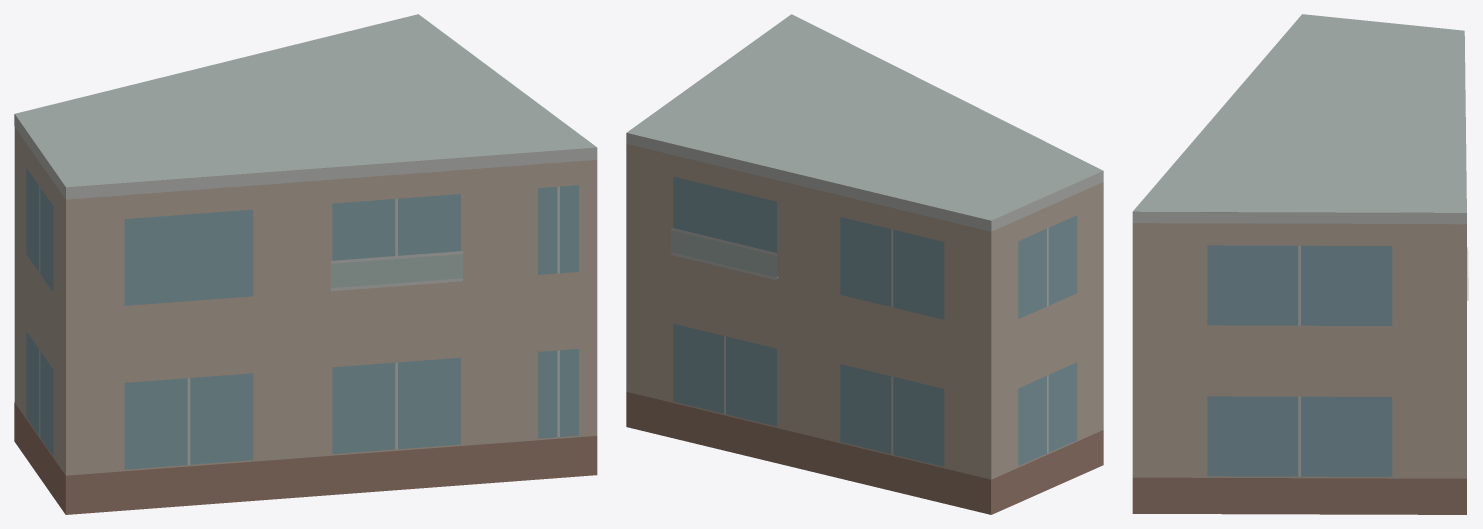
Rendered from survey-upis-32517821.glb.
3 renders of one model, left to right at view 1: azimuth 30°, elevation 25°; view 2: azimuth 150°, elevation 25°; view 3: azimuth 270°, elevation 25°, orthographic. The views are drawn at different scales.
Visible parts, largest first — view 1: survey-upis-32517821.tmp; view 2: survey-upis-32517821.tmp; view 3: survey-upis-32517821.tmp.
Boxes of the visible parts, <box> form: survey-upis-32517821.tmp: <box>14,14,597,514</box>; survey-upis-32517821.tmp: <box>626,14,1103,514</box>; survey-upis-32517821.tmp: <box>1132,14,1468,514</box>.
Size of the model in its own units: 9.19 by 6.5 by 6.57.
